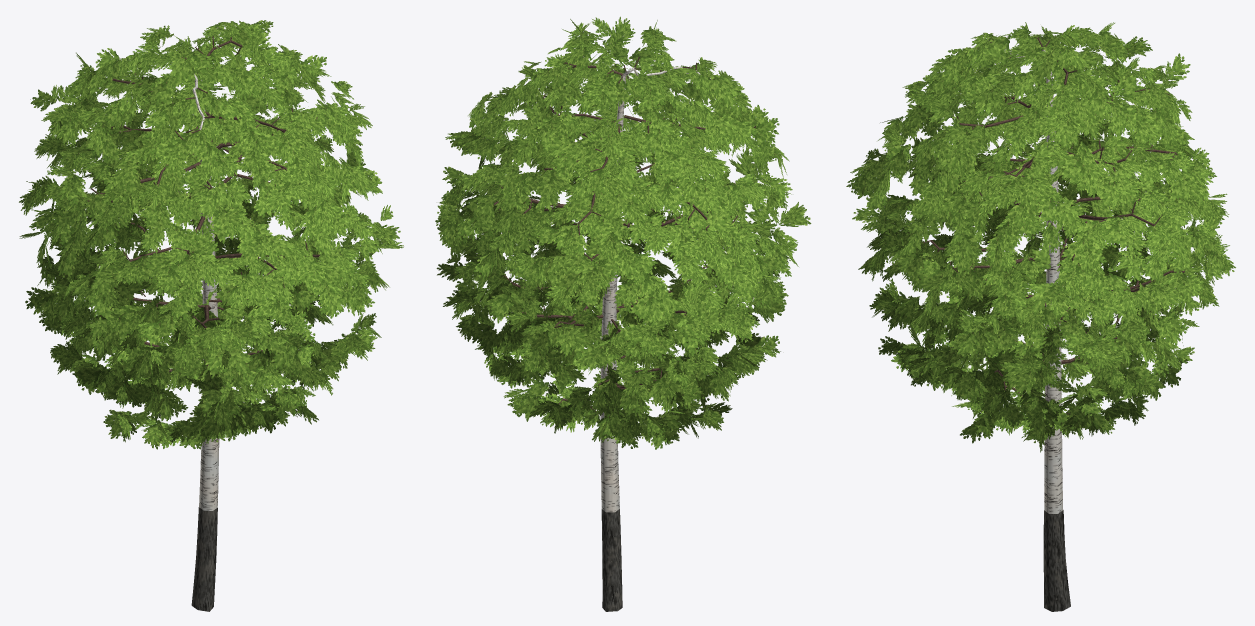
File: birch_short_01.glb
3 renders of one model, left to right at view 1: azimuth 30°, elevation 25°; view 2: azimuth 150°, elevation 25°; view 3: azimuth 270°, elevation 25°, orthographic. The views are drawn at different scales.
Parts seen in each view (by area): view 1: birch_short_01; view 2: birch_short_01; view 3: birch_short_01.
Part boxes in pixels (x1=…): birch_short_01: x1=19, y1=20, x2=403, y2=611; birch_short_01: x1=435, y1=16, x2=811, y2=611; birch_short_01: x1=846, y1=22, x2=1235, y2=611.
Size of the model in its own units: 3.15 by 5.31 by 3.3.
Materials: 4 (4 with a texture image).
